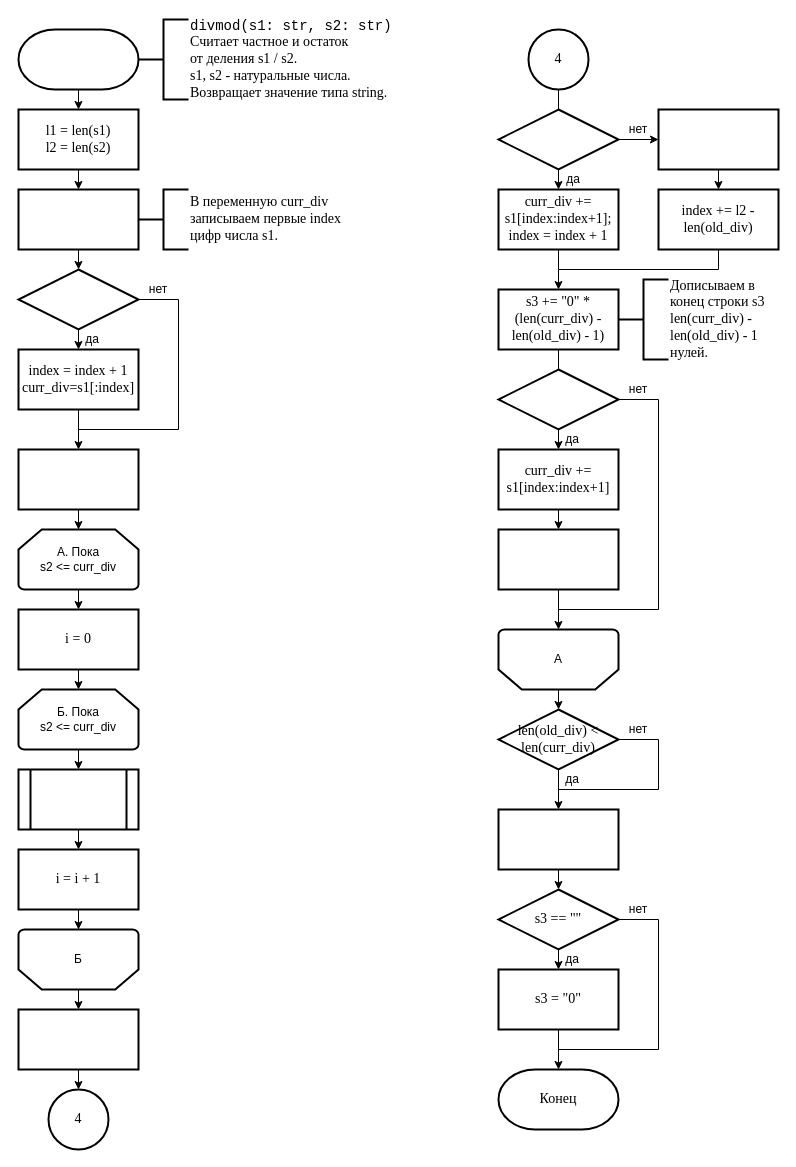
Image size: 796x1167. Some labels were removed from this diagram. The box of each missing label's shape, as (x1, y1, x2, y2) in pixels:
curr_div += s1[index:index+l2-len(old_div)];: (657, 108, 779, 170)
curr_div < s2: (17, 268, 139, 330)
curr_div < s2 и index < l1: (497, 368, 619, 430)
curr_div = sub(curr_div, s2): (17, 768, 139, 830)
index = index + 1 s3 = s3 + "0": (497, 528, 619, 590)
len(s2) == len(old_div): (497, 108, 619, 170)
old_div = curr_div: (17, 448, 139, 510)
s3 = "" index = l2 curr_div=s1[:index]: (17, 188, 139, 250)
s3 = s3 + "0": (497, 808, 619, 870)
s3 = s3 + str(i) old_div = curr_div: (17, 1008, 139, 1070)
Начало: (17, 28, 139, 90)
